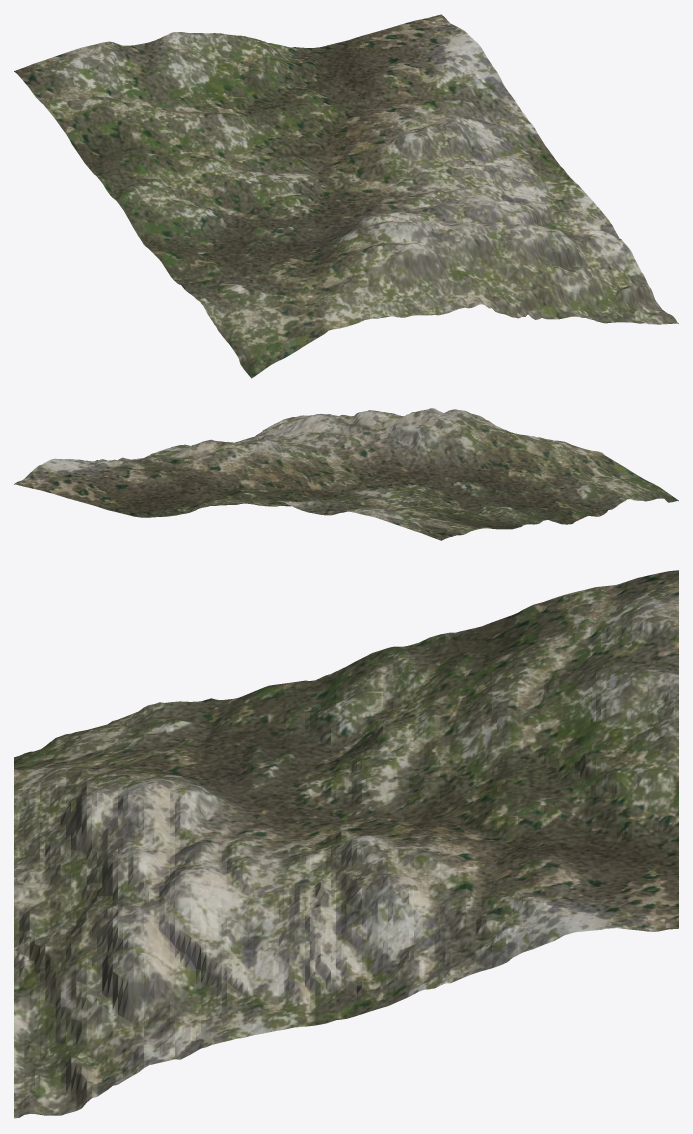
3 renders of one model, top to bottom at view 1: azimuth 30°, elevation 25°; view 2: azimuth 150°, elevation 25°; view 3: azimuth 270°, elevation 25°, orthographic. The views are drawn at different scales.
Bounding box in the file's own units: 500 × 214 × 481.
Materials: 1 (1 with a texture image).
